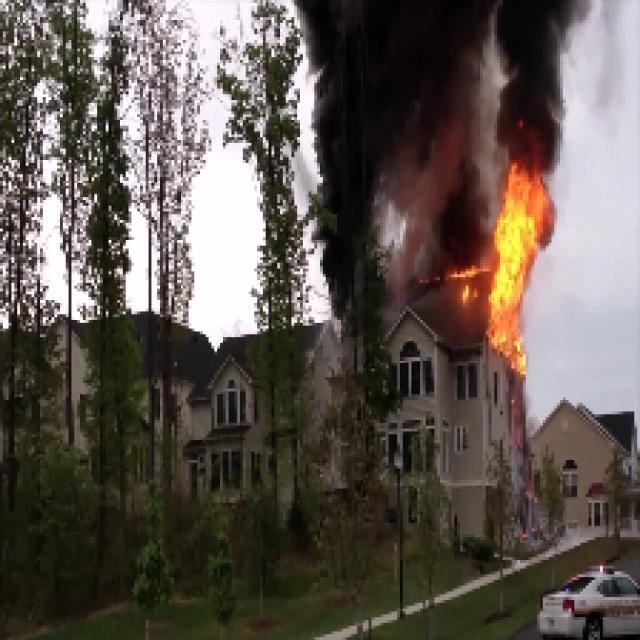Fire: (484, 166, 548, 370)
Smoke: (296, 2, 479, 285), (491, 5, 580, 160)
